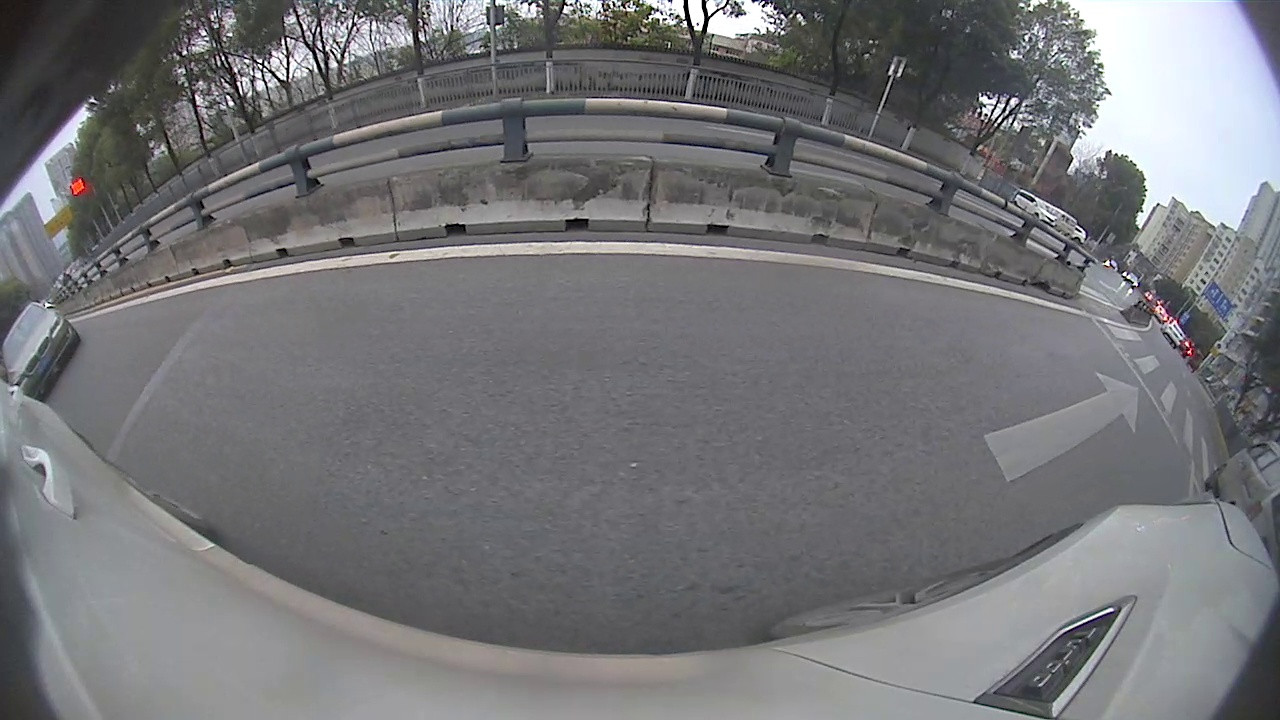car: (1, 301, 82, 403)
